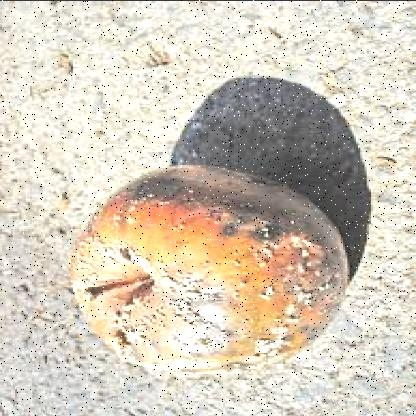damaged_apple: (69, 165, 341, 379)
